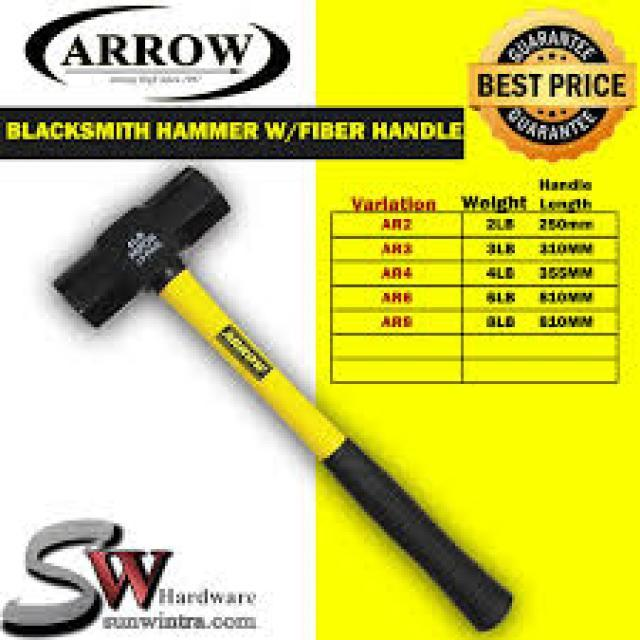hammer: (52, 160, 520, 640)
